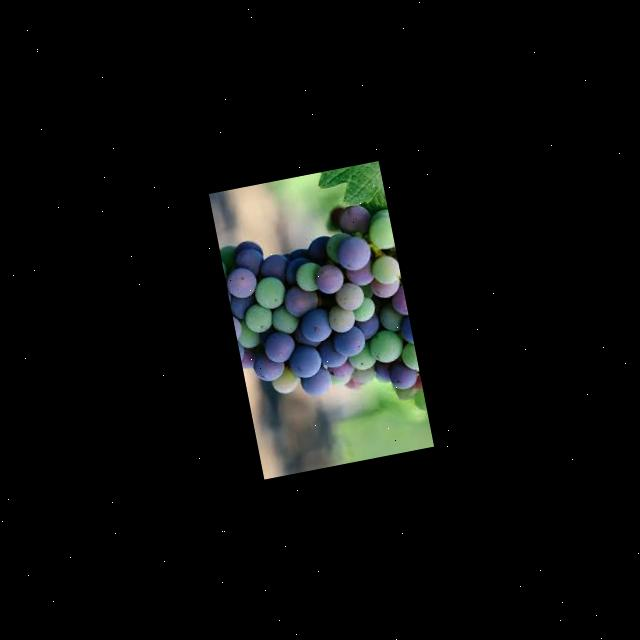grape: (215, 197, 422, 427)
